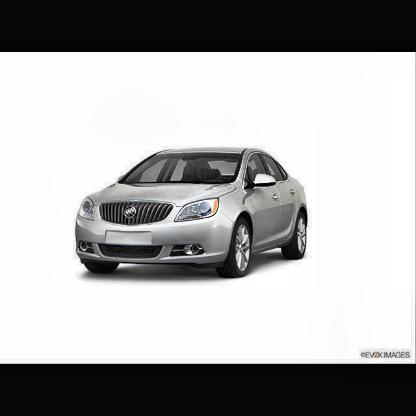Buick Verano Sedan 2012: (75, 147, 310, 280)
